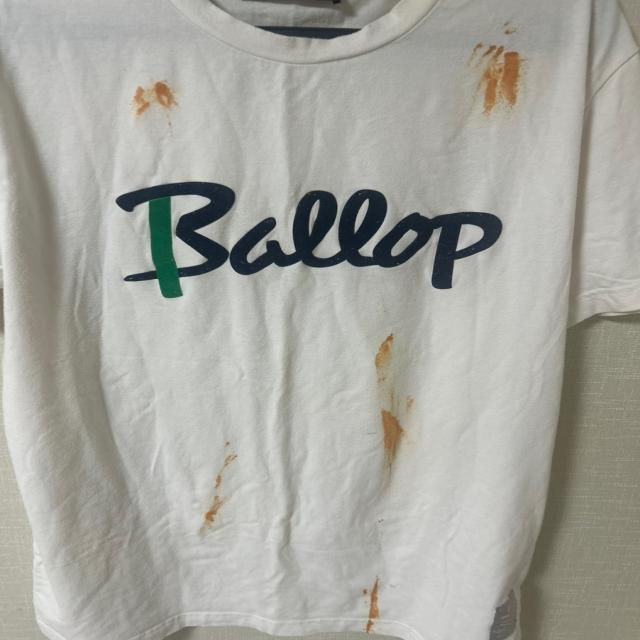stain: (460, 42, 531, 114), (375, 384, 421, 478), (205, 441, 239, 536), (132, 78, 184, 128), (357, 575, 396, 640), (367, 330, 411, 380), (490, 15, 520, 42), (376, 515, 397, 530)
